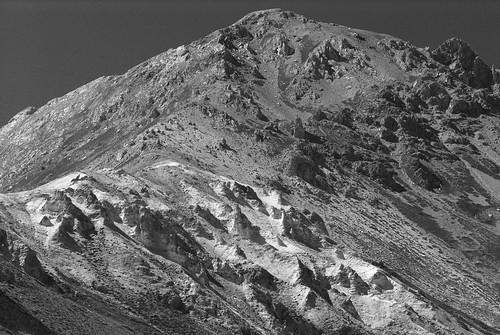mountain: (6, 1, 500, 329)
